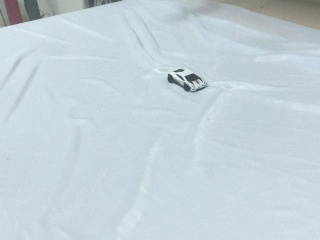toy_car: (167, 69, 207, 92)
